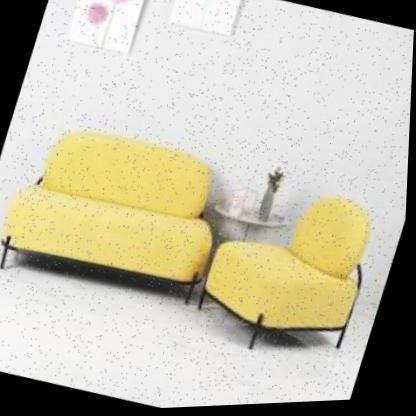Sofa: (0, 95, 251, 344), (179, 140, 411, 387)
